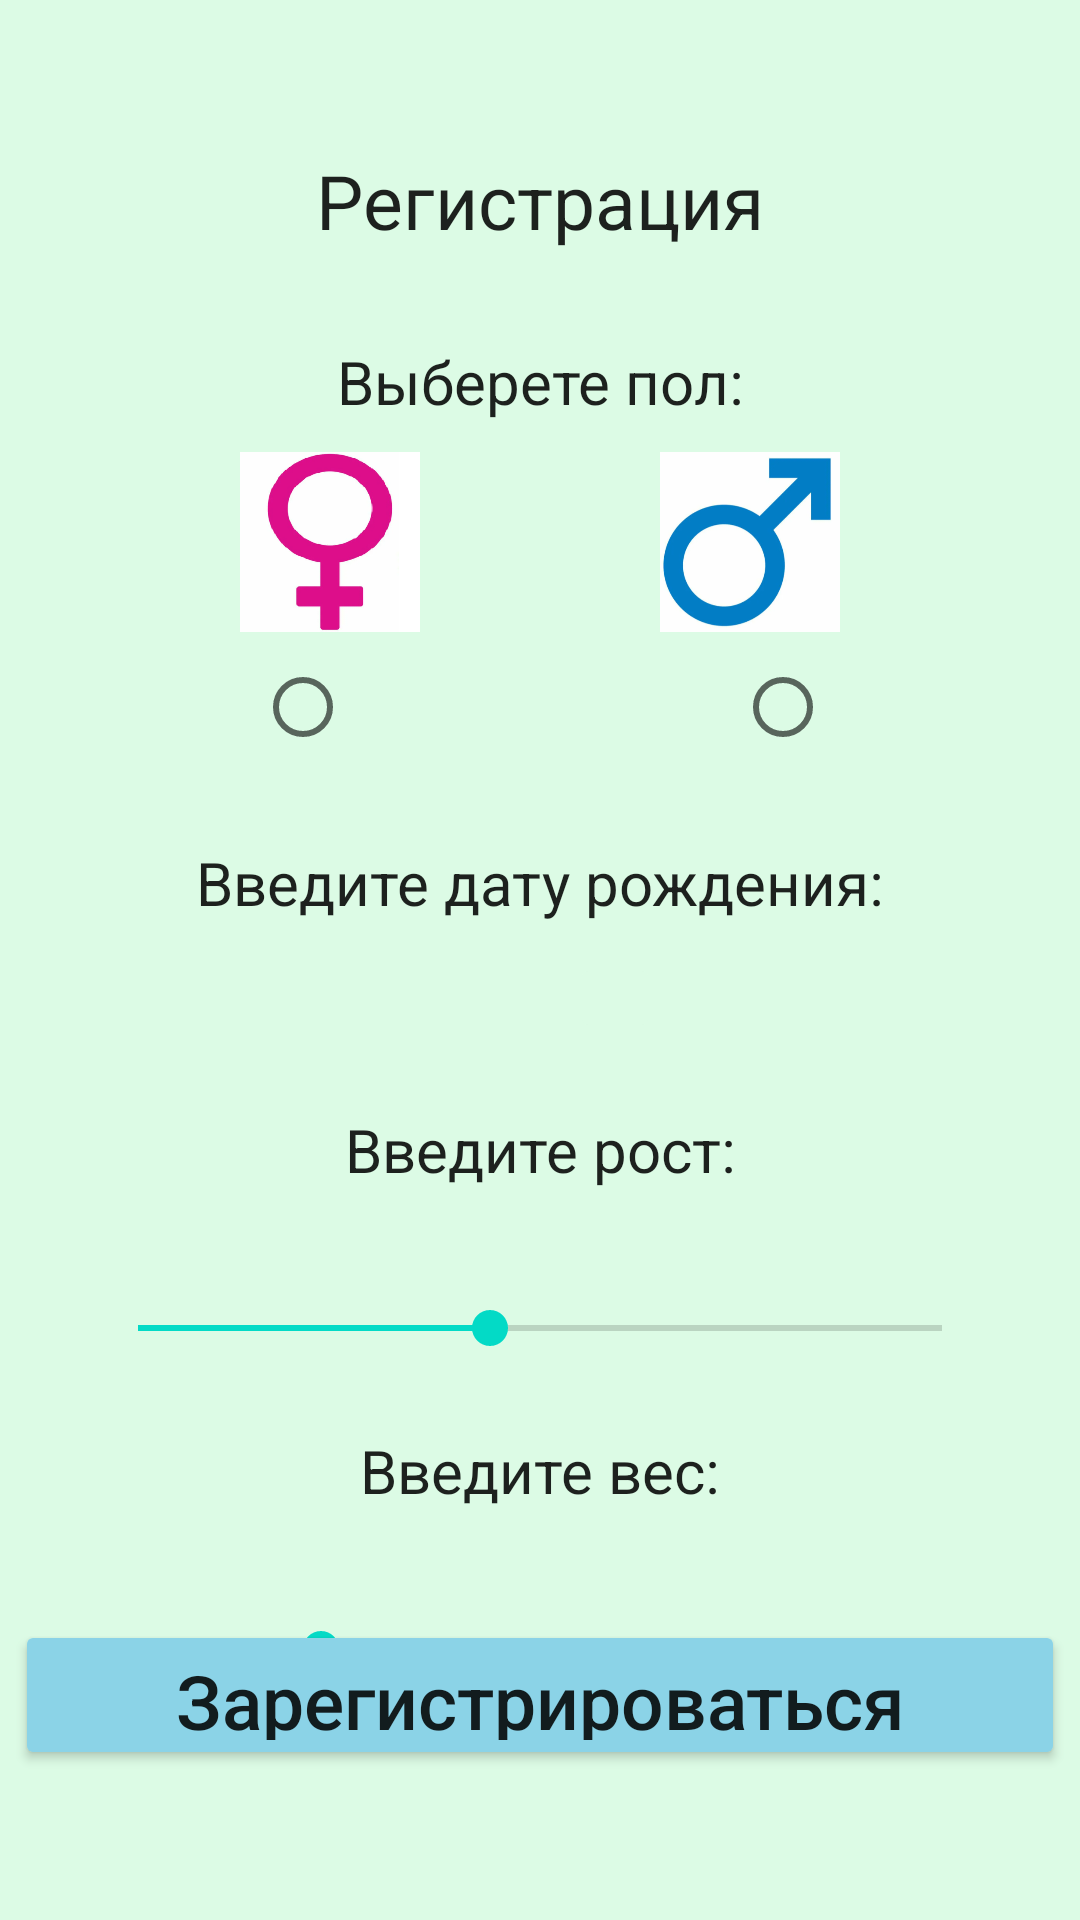

Locate icon controls on the screen. Image size 1080*1920, boxes as bbox(x1, y1, x2, y2).
female: bbox(240, 452, 420, 632)
male: bbox(660, 452, 840, 632)
